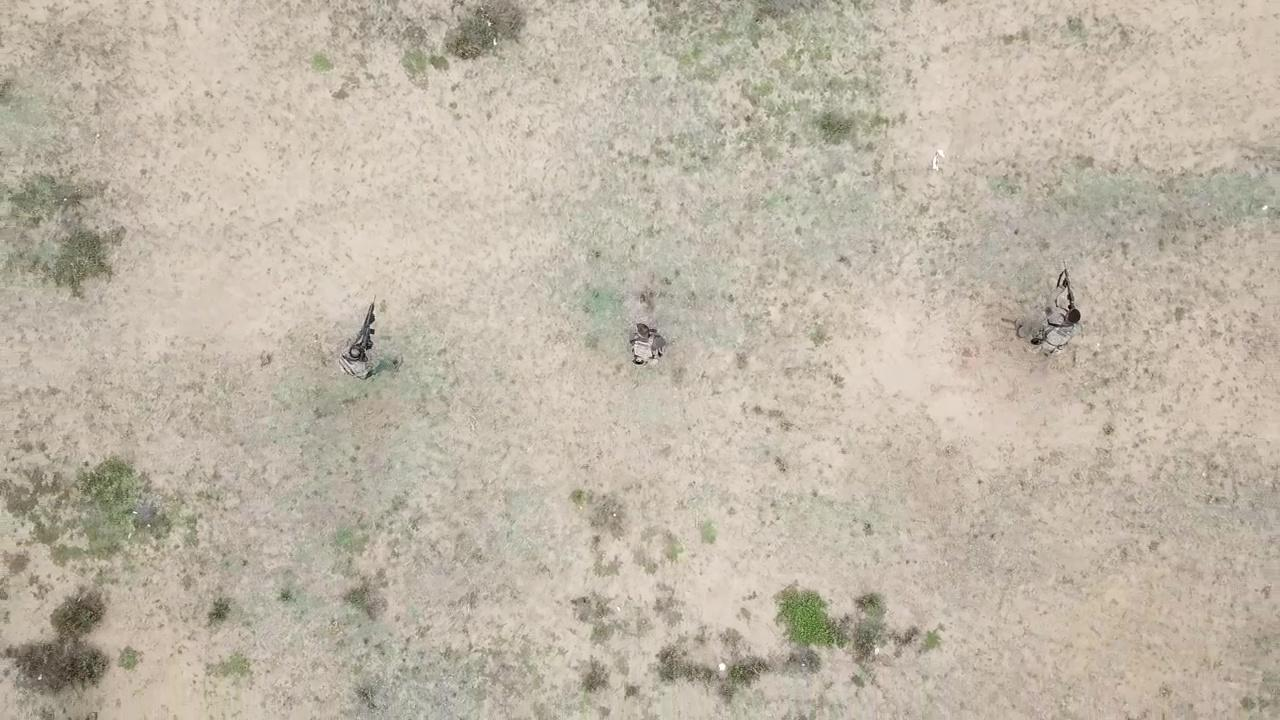Soldier: (1011, 257, 1086, 371), (332, 287, 405, 385), (624, 315, 673, 368)
